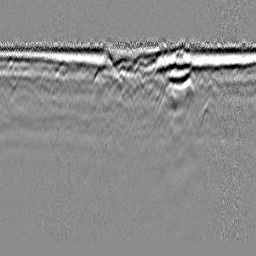cavity: (118, 83, 137, 111)
